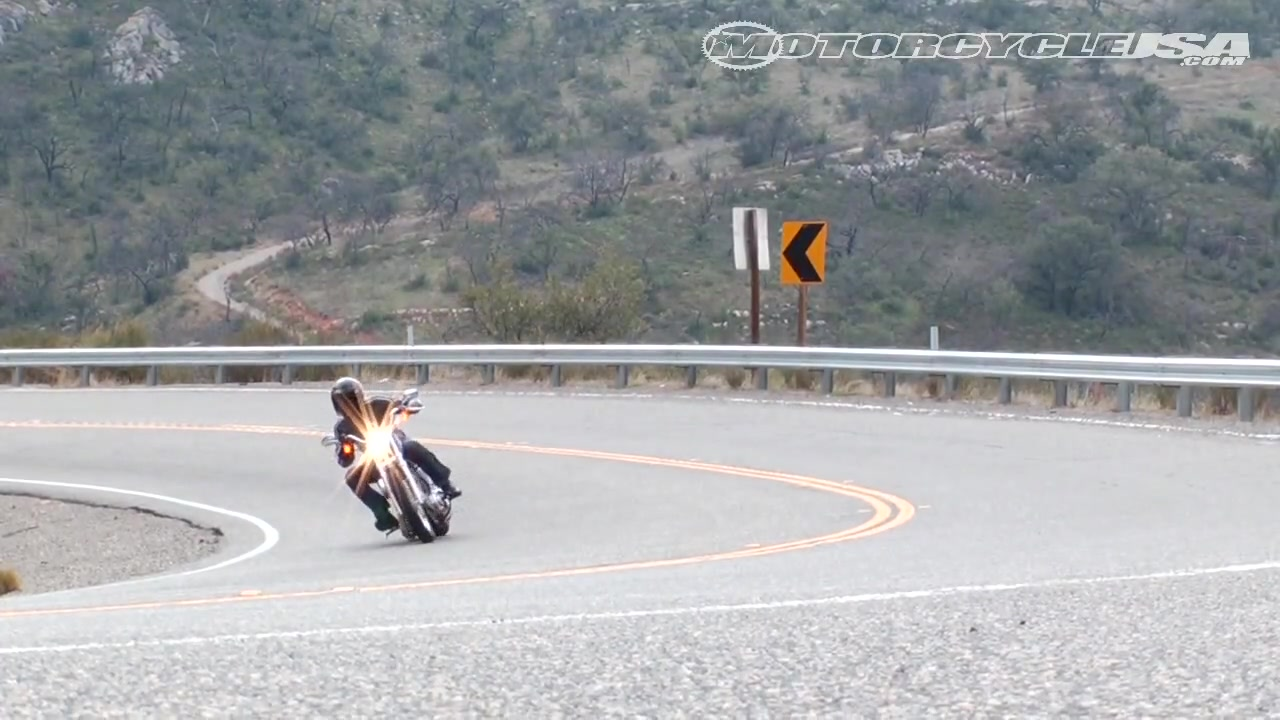motorbike: (322, 391, 463, 543)
